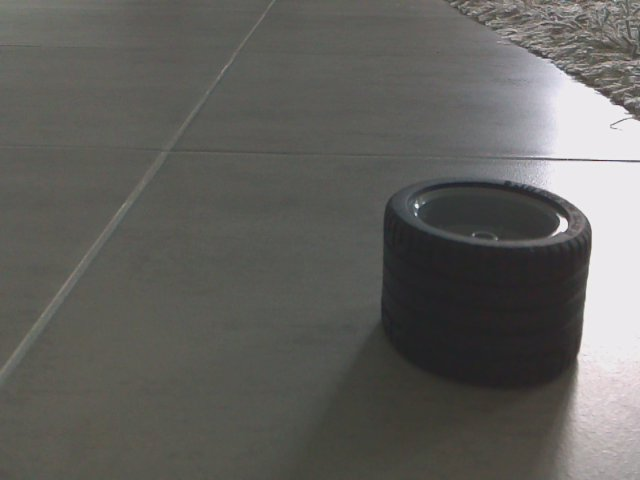Rad: (376, 173, 595, 382)
